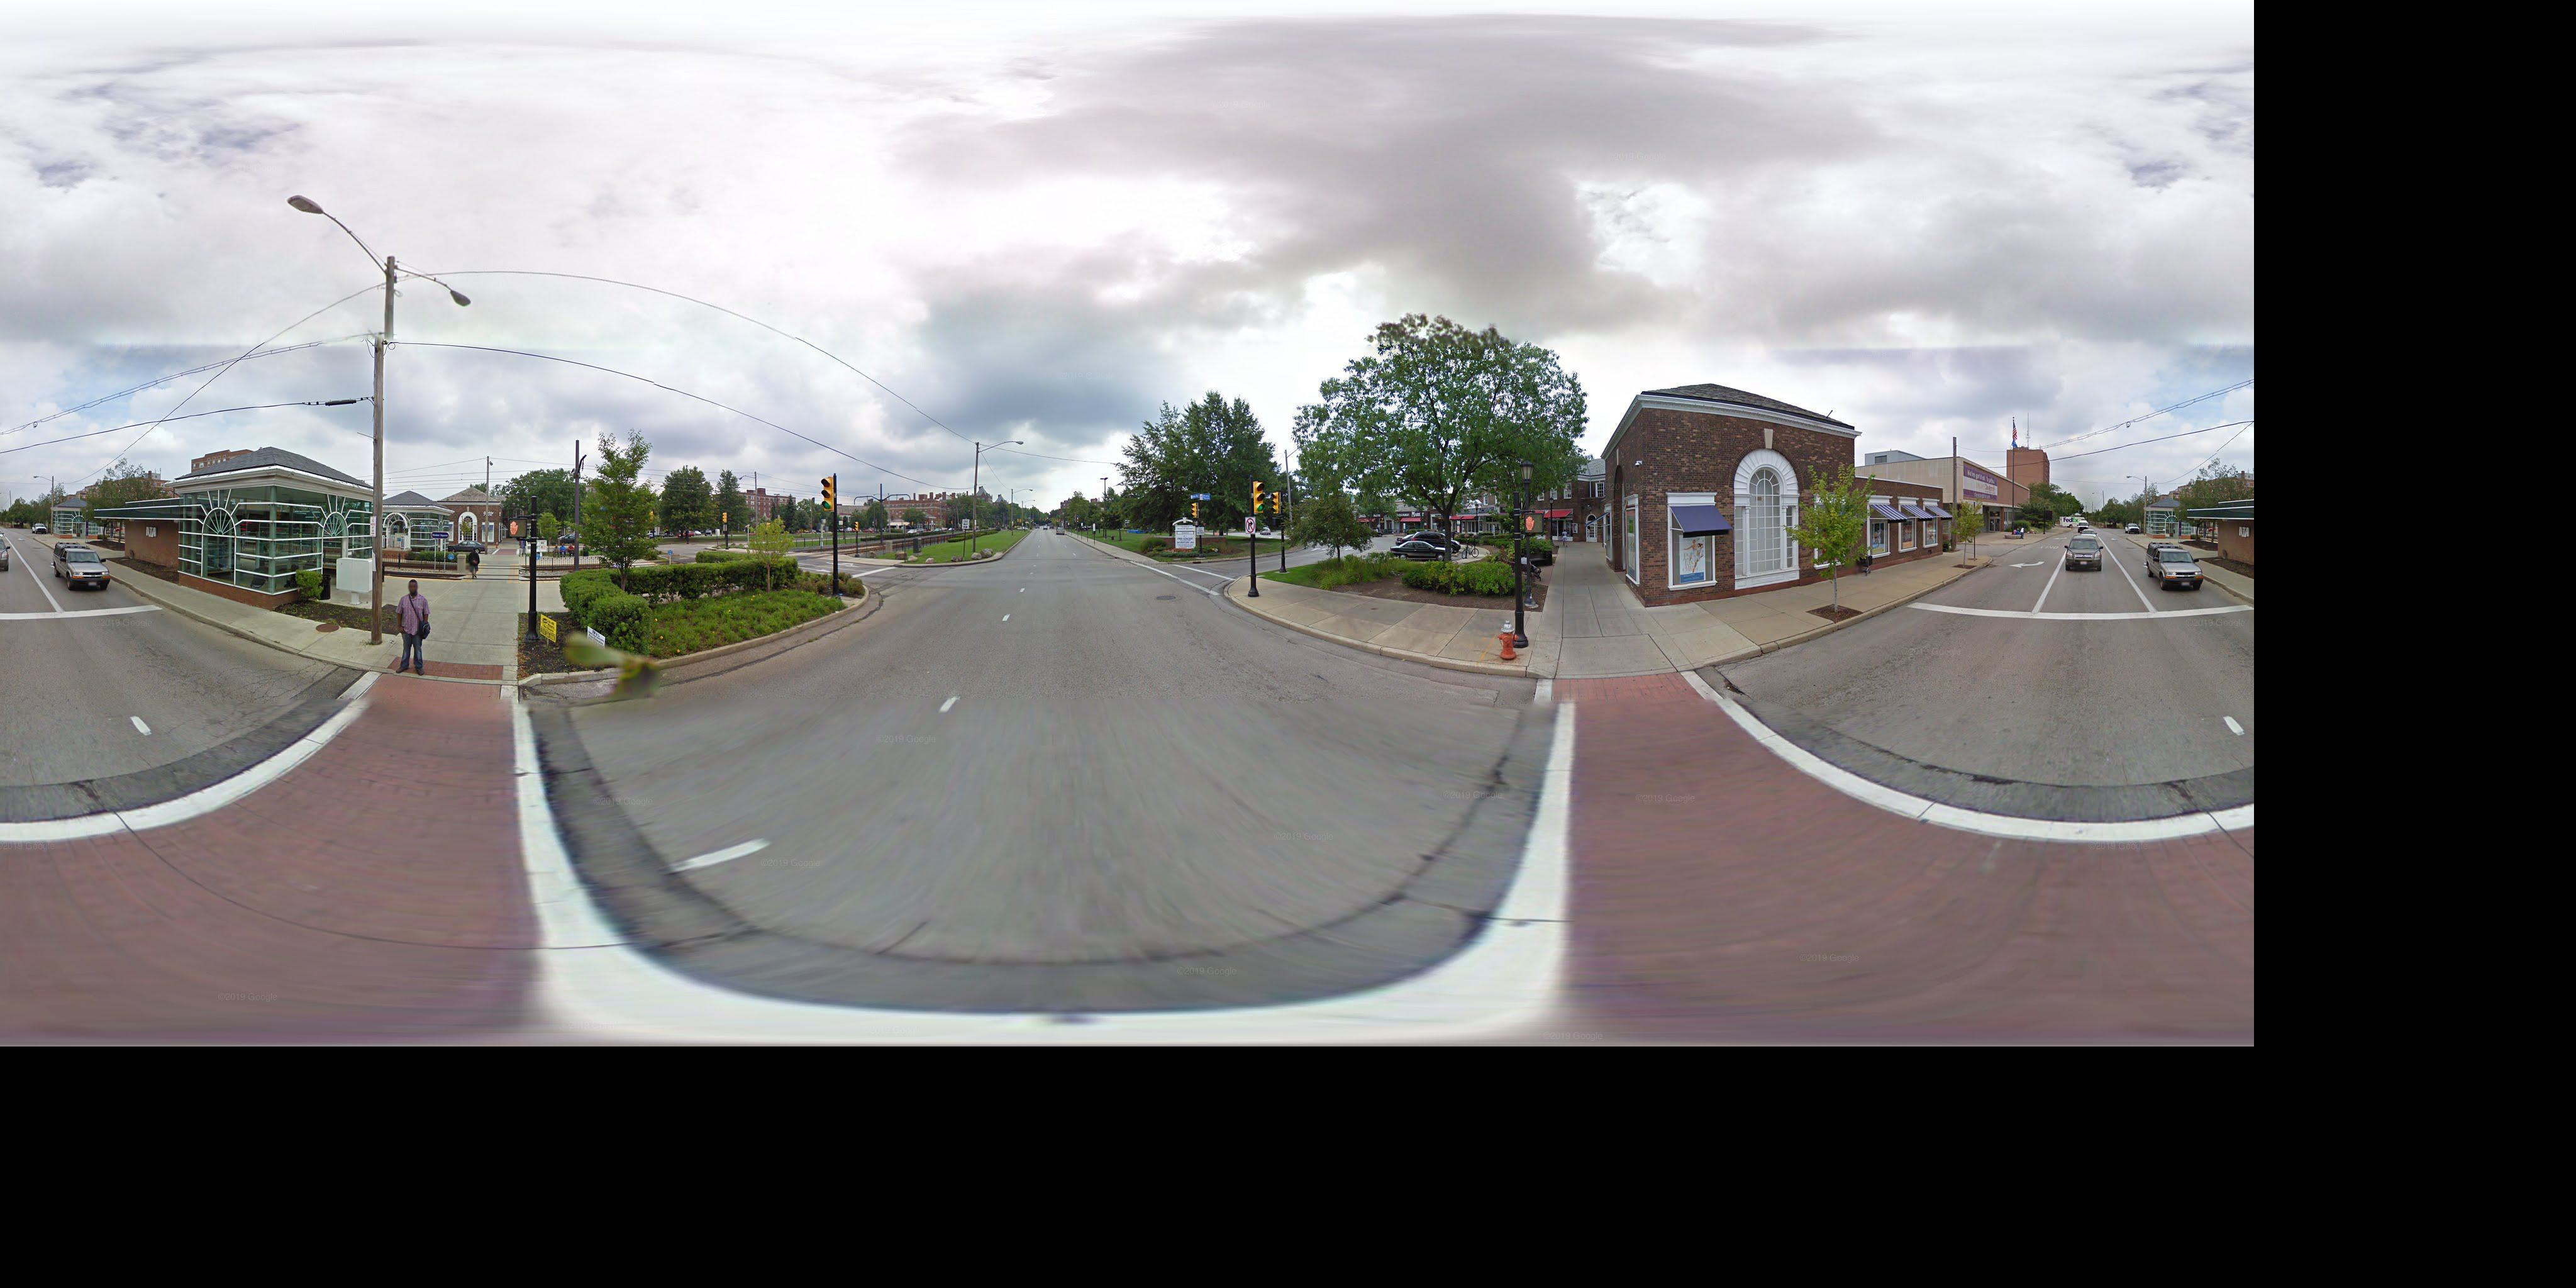Curb Ramp: (1533, 626, 1690, 698), (376, 632, 514, 688), (1221, 570, 1253, 601), (1119, 550, 1161, 573)
